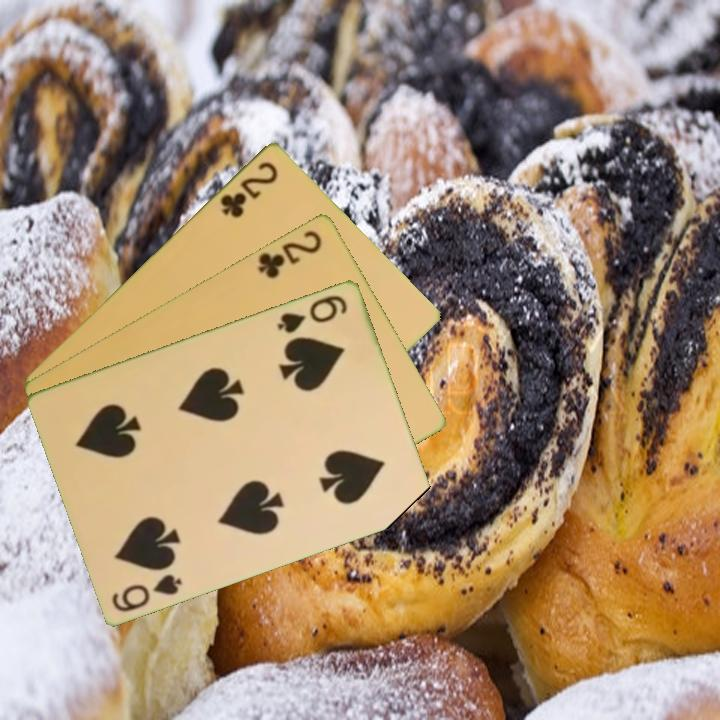2c: (216, 157, 281, 220), (254, 226, 325, 281)
6s: (274, 291, 351, 336), (108, 570, 185, 615)
